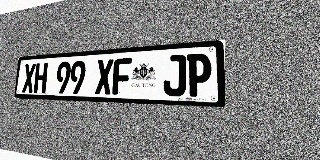9: (69, 60, 86, 94), (55, 61, 71, 94)
F: (112, 58, 132, 95)
H: (33, 63, 48, 93)
J: (163, 54, 186, 96)
P: (186, 53, 211, 97)
X: (95, 59, 113, 95), (22, 63, 36, 93)
